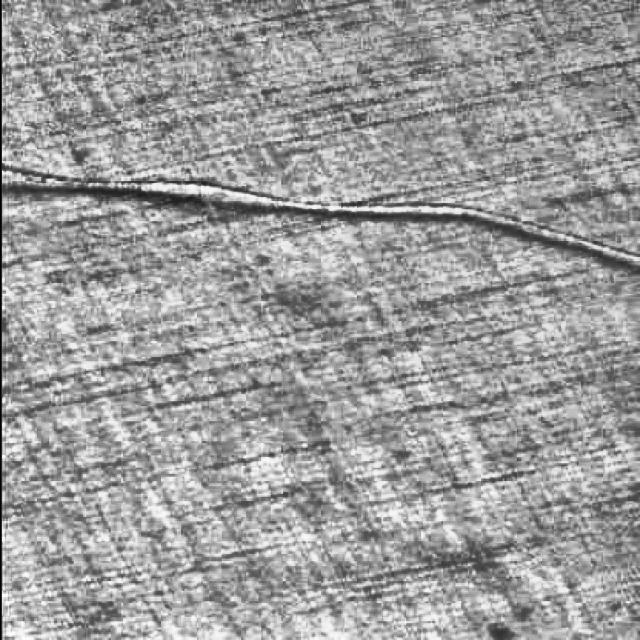objects: (0, 145, 640, 278)
